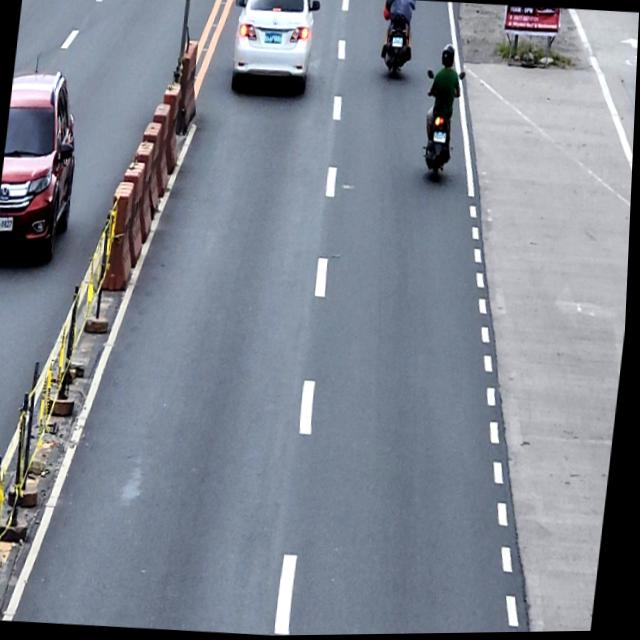Car: (0, 65, 86, 263), (226, 0, 321, 95)
License-Plate: (263, 31, 283, 46), (0, 216, 16, 231), (434, 132, 447, 145), (391, 37, 403, 48)
Motorcycle: (416, 69, 466, 185), (379, 13, 412, 79)
